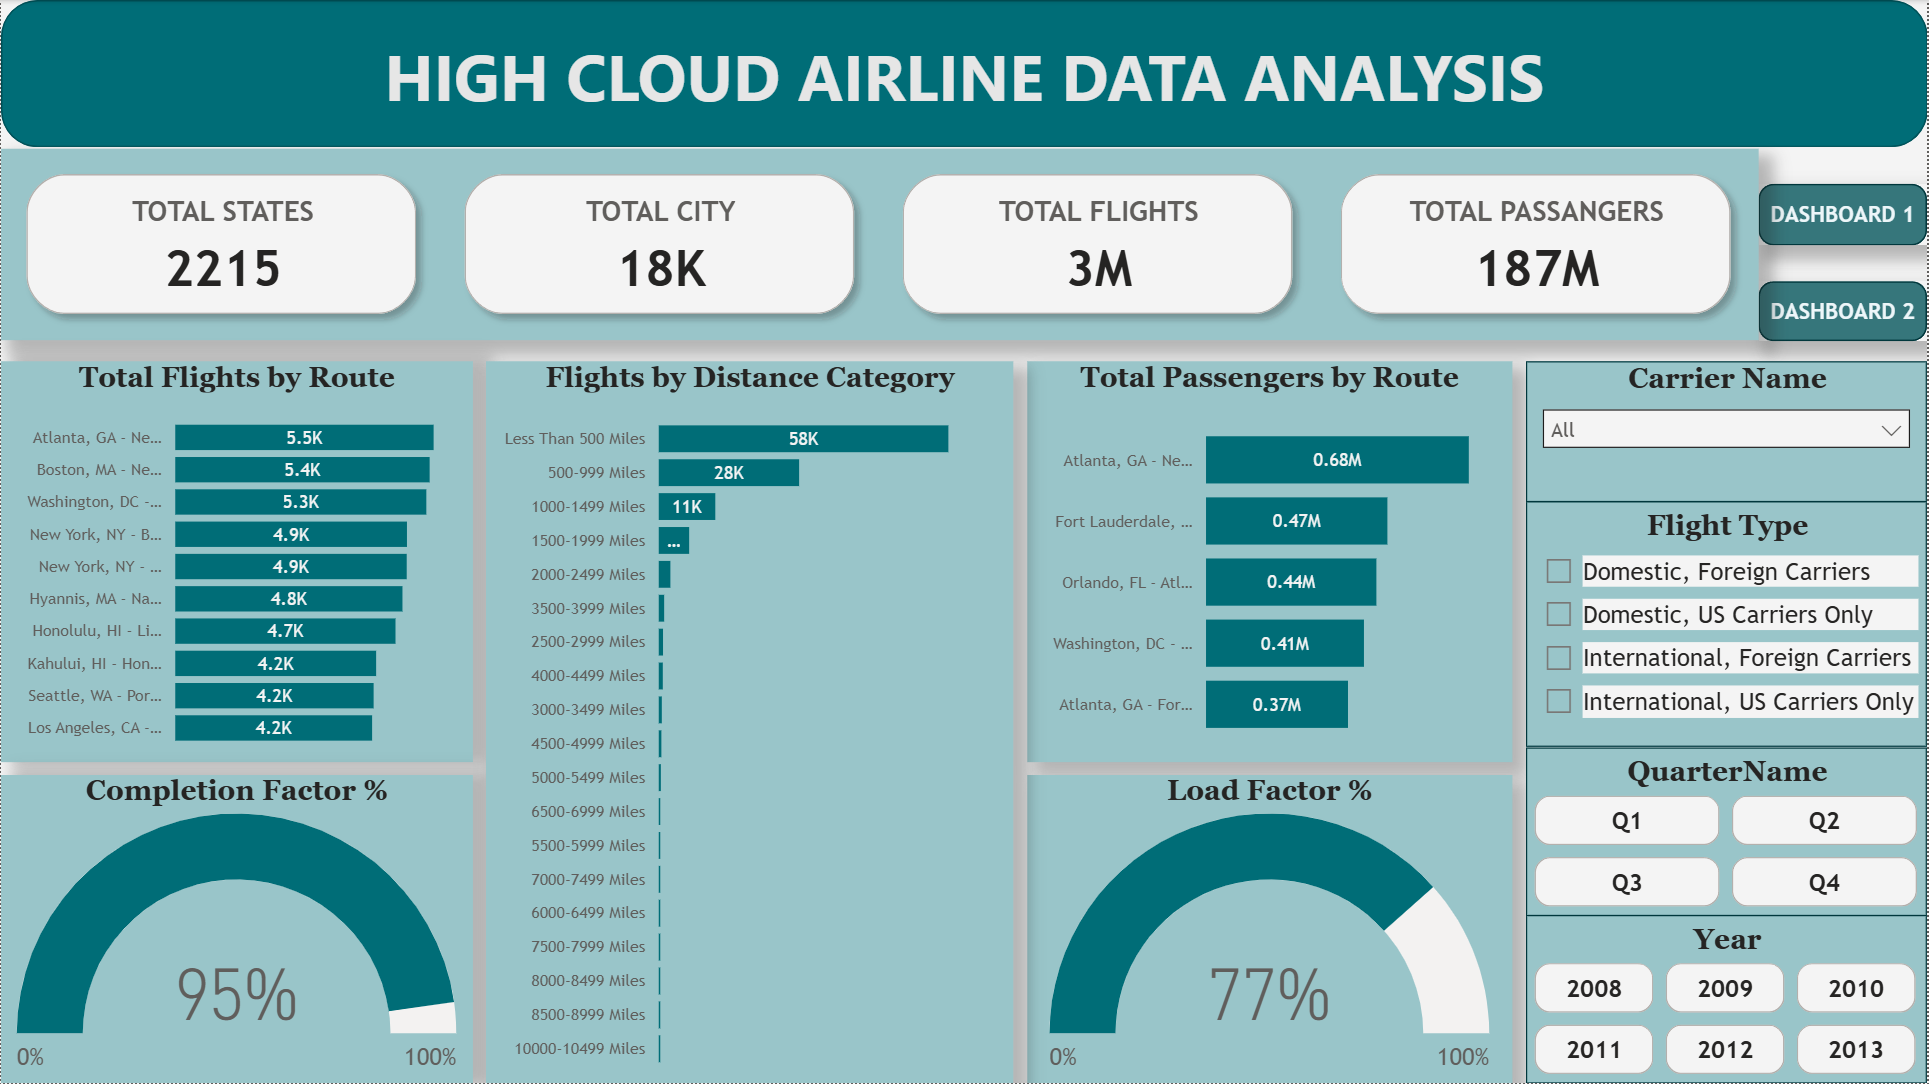

What the dashboard file says about the page in this screenshot:
{"tool":"powerbi","page":{"name":"DASHBOARD 3","canvas":[1280,720],"ordinal":2},"visuals":[{"type":"actionButton","box":[1168.1,121.9,112,41.1],"z":0},{"type":"actionButton","box":[1168.1,186.6,112,39.8],"z":1000},{"type":"shape","box":[0,0,1280.3,97.8],"z":2000},{"type":"cardVisual","title":"TOTAL AIRLINE","fields":{"Data":["Count(MainData_Final.From - To State Code)","Count(MainData_Final.From - To City)","MainData_Final.TotalFlights","MainData_Final.TotalTransportedPassengers"]},"box":[0,99,1167.8,127.2],"z":3000},{"type":"barChart","title":"Total Flights by Route","fields":{"Category":["MainData_Final.From - To City"],"Y":["MainData_Final.TotalFlights"]},"box":[0,240.1,313.5,266.2],"z":4000},{"type":"barChart","title":"Total Passengers by Route","fields":{"Category":["MainData_Final.From - To City"],"Y":["Sum(MainData_Final.Transported Passengers)"]},"box":[681.7,240.1,322.2,266.2],"z":5000},{"type":"gauge","title":"Completion Factor %","fields":{"Y":["MainData_Final.Completion Factor%"]},"box":[0,515,313.5,205.3],"z":6000},{"type":"gauge","title":"Load Factor %","fields":{"Y":["MainData_Final.LoadFactor"]},"box":[681.7,515,322.2,205.3],"z":7000},{"type":"barChart","title":"Flights by Distance Category","fields":{"Category":["Distance Groups.Distance Interval"],"Y":["CountNonNull(MainData_Final.From - To Airport Code)"]},"box":[322.2,240.1,350.8,480.2],"z":8000},{"type":"advancedSlicerVisual","title":"Year","fields":{"Values":["DateTable.Year"]},"box":[1013.8,608,266.2,112],"z":9000},{"type":"slicer","title":"Flight Type ","fields":{"Values":["Flight Types.Flight Type"]},"box":[1013.8,333.4,266.2,163],"z":10000},{"type":"slicer","title":"Carrier Name","fields":{"Values":["MainData_Final.Carrier Name"]},"box":[1013.8,240.1,266.2,93.3],"z":11000},{"type":"advancedSlicerVisual","fields":{"Values":["DateTable.QuarterName"]},"box":[1013.8,496.3,266.2,112],"z":12000}]}

Visuals, with their boxes in screenshot pixels (x1, y1, x2, y2), scaled from the page's 1280x720 canvas onto the 1929x1084 screenshot:
actionButton: 1760/184/1928/245
actionButton: 1760/281/1928/341
shape: 0/0/1928/147
"TOTAL AIRLINE" cardVisual: 0/149/1760/341
"Total Flights by Route" barChart: 0/361/472/762
"Total Passengers by Route" barChart: 1027/361/1513/762
"Completion Factor %" gauge: 0/775/472/1083
"Load Factor %" gauge: 1027/775/1513/1083
"Flights by Distance Category" barChart: 486/361/1014/1083
"Year" advancedSlicerVisual: 1528/915/1928/1083
"Flight Type " slicer: 1528/502/1928/747
"Carrier Name" slicer: 1528/361/1928/502
advancedSlicerVisual - DateTable.QuarterName: 1528/747/1928/916
